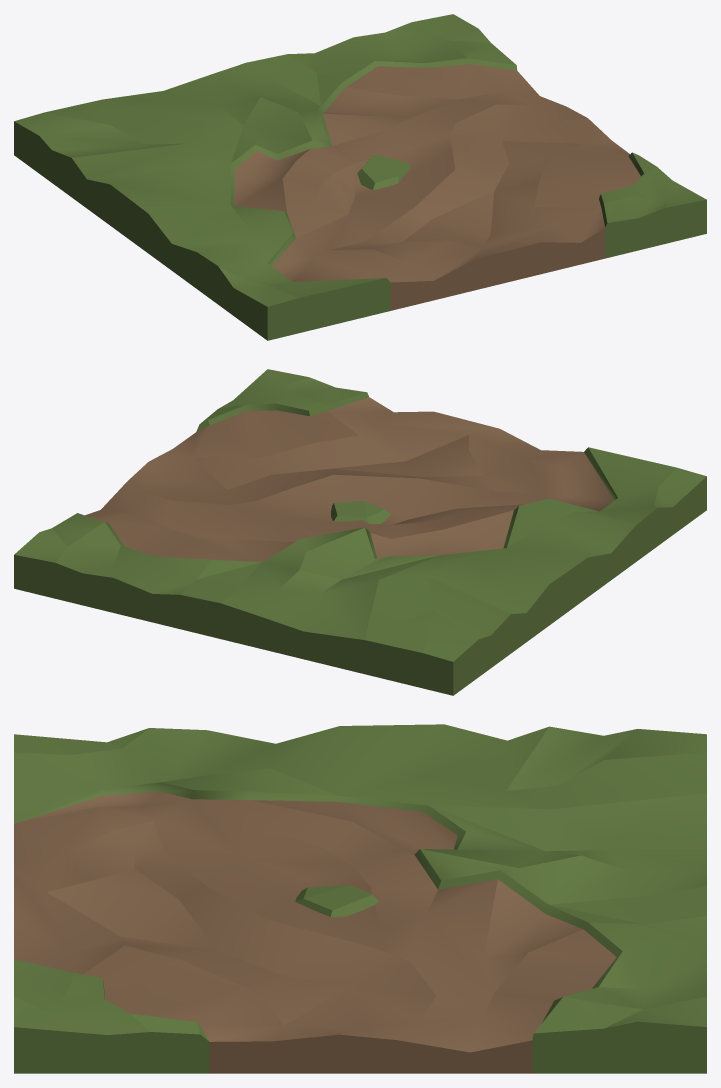
File: Ground_Path_Turn_LU.glb
3 views of the same model, one above another, from view 1: azimuth 30°, elevation 25°; view 2: azimuth 150°, elevation 25°; view 3: azimuth 270°, elevation 25° (orthographic). The views are drawn at different scales.
Visible parts, largest first — view 1: Ground_Path_Turn_LU; view 2: Ground_Path_Turn_LU; view 3: Ground_Path_Turn_LU.
Part boxes in pixels (x1=…): Ground_Path_Turn_LU: x1=14, y1=14, x2=706, y2=340; Ground_Path_Turn_LU: x1=14, y1=369, x2=706, y2=695; Ground_Path_Turn_LU: x1=14, y1=724, x2=706, y2=1073.
Bounding box in the file's own units: 1.47 × 0.1465 × 1.47.
